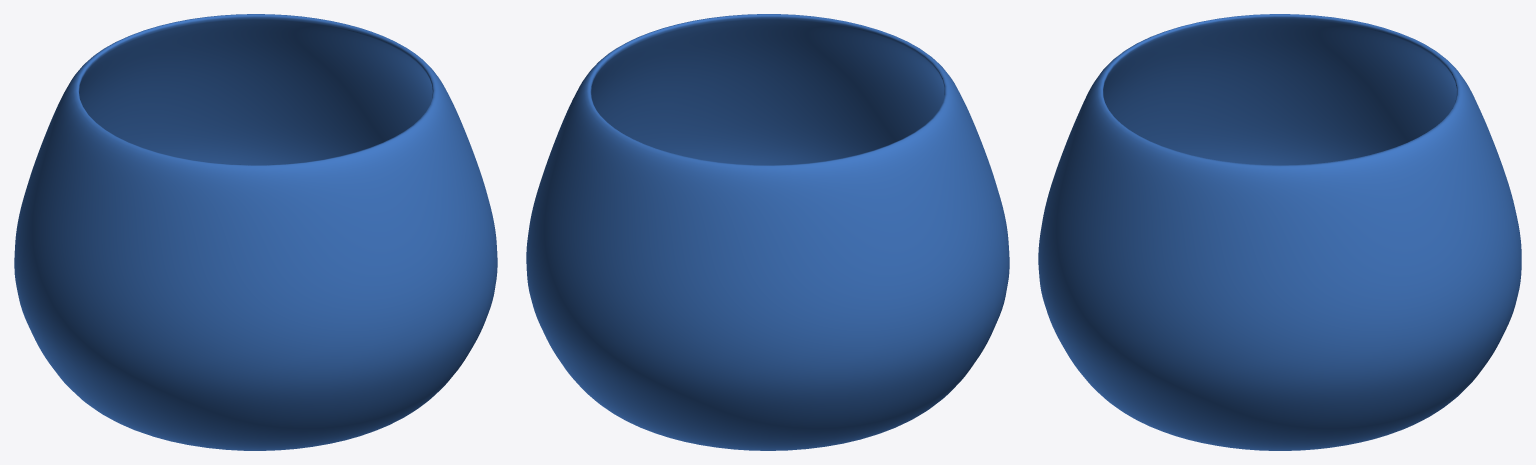
Rendered from Bowl.fbx.
The picture shows the model from 3 angles, left to right: view 1: azimuth 30°, elevation 25°; view 2: azimuth 150°, elevation 25°; view 3: azimuth 270°, elevation 25°; orthographic projection.
Parts seen in each view (by area): view 1: Object_3; view 2: Object_3; view 3: Object_3.
Part boxes in pixels (<box>): Object_3: <box>14,14,497,450</box>; Object_3: <box>526,14,1009,450</box>; Object_3: <box>1038,14,1521,450</box>.
Size of the model in its own units: 939 by 645 by 939.
